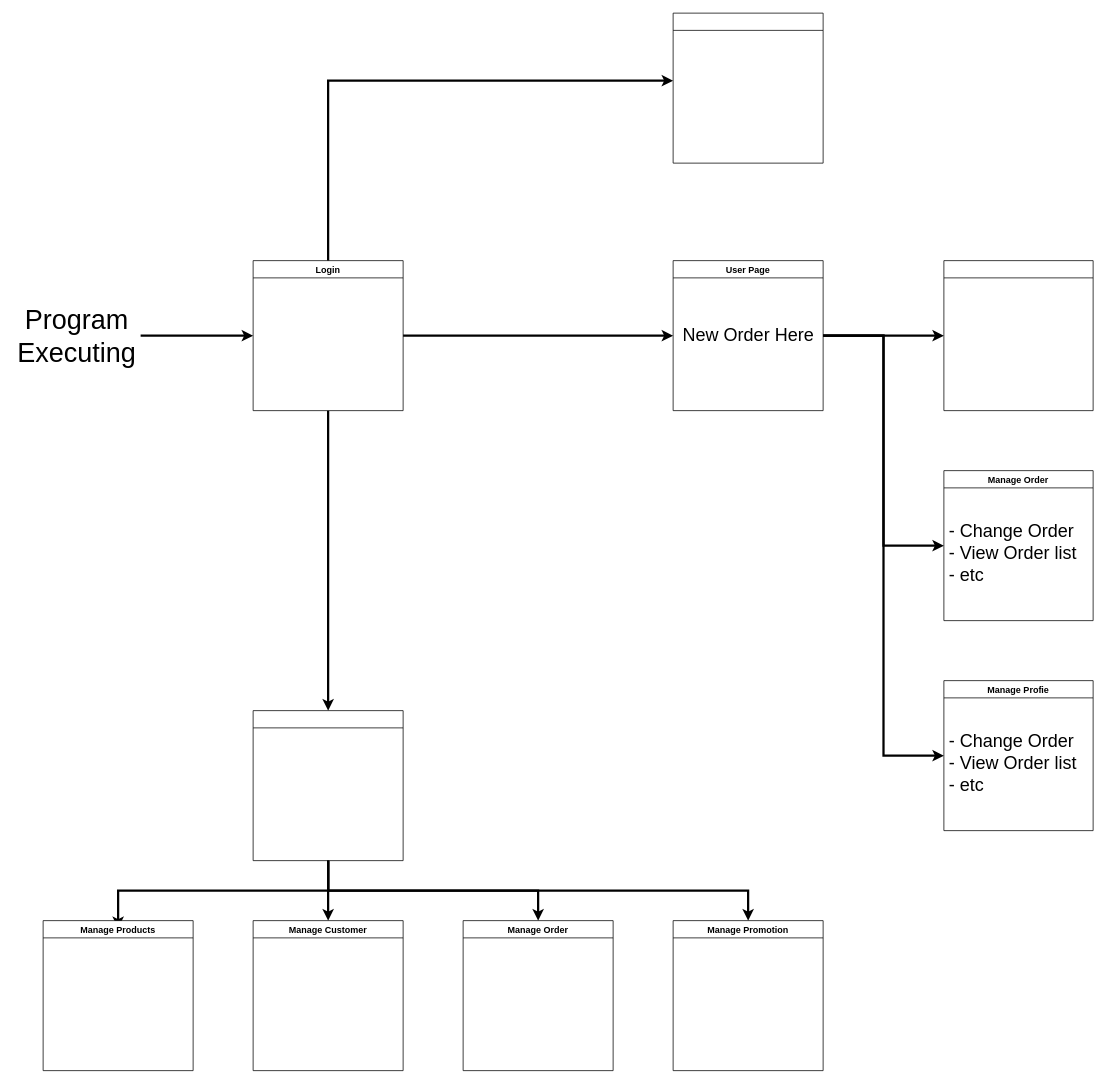
Image size: 1106x1084. Some labels were removed from this diagram. The shapes that lost their labels are listed below. From the top down, each one's centre as x and y in pixels, then its label:
[747,87]: Create New Account
[1018,335]: Purchase
[327,785]: Admin Page
